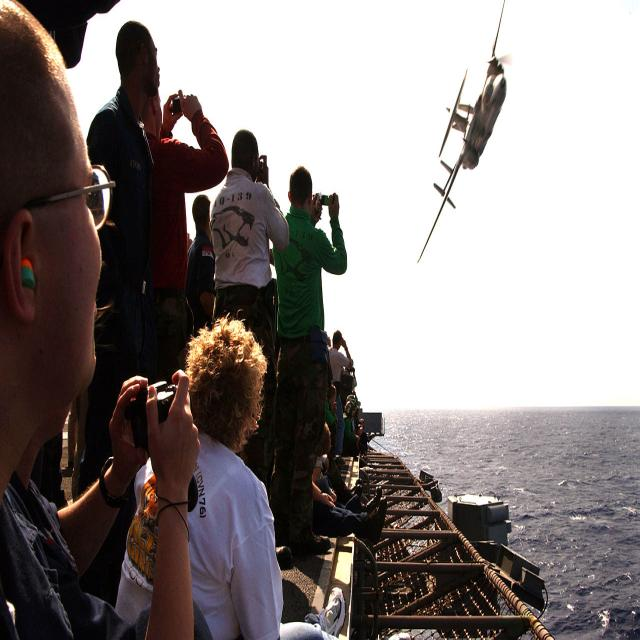MIL_Plane: (417, 1, 512, 263)
